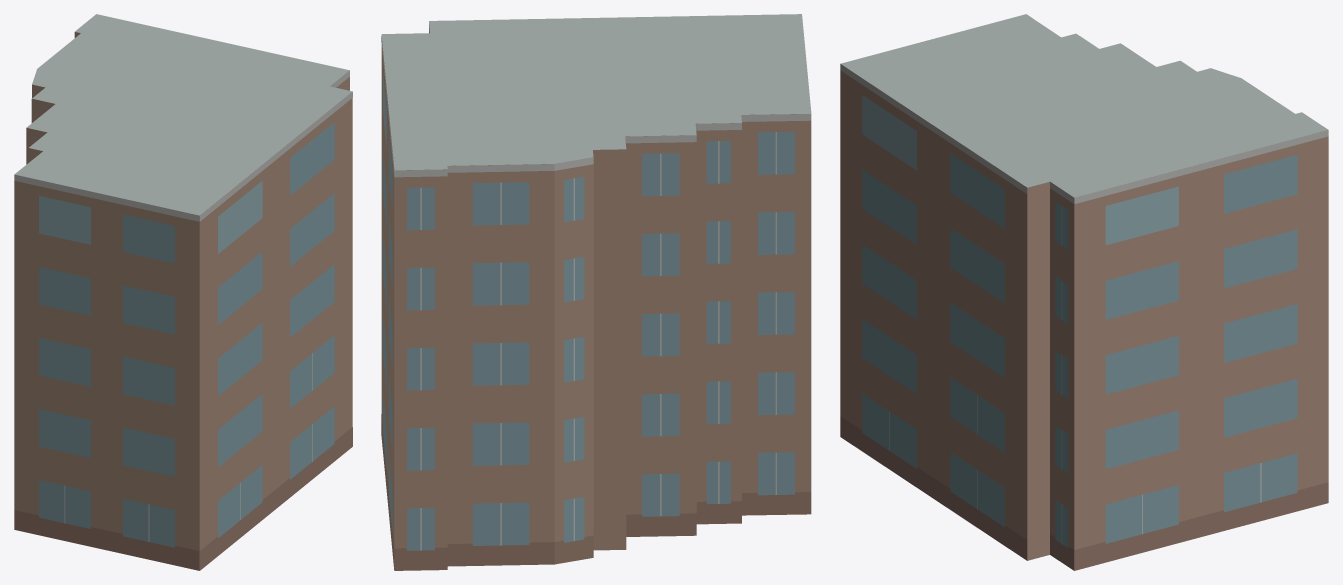
Rendered from survey-upis-33046920.glb.
The picture shows the model from 3 angles, left to right: view 1: azimuth 30°, elevation 25°; view 2: azimuth 150°, elevation 25°; view 3: azimuth 270°, elevation 25°; orthographic projection. The views are drawn at different scales.
Visible parts, largest first — view 1: survey-upis-33046920.tmp; view 2: survey-upis-33046920.tmp; view 3: survey-upis-33046920.tmp.
Part boxes in pixels (x1,y1,x2,y2): survey-upis-33046920.tmp: (14, 14, 352, 570); survey-upis-33046920.tmp: (381, 14, 811, 570); survey-upis-33046920.tmp: (840, 14, 1328, 570).
Size of the model in its own units: 14.79 by 14 by 16.61.
